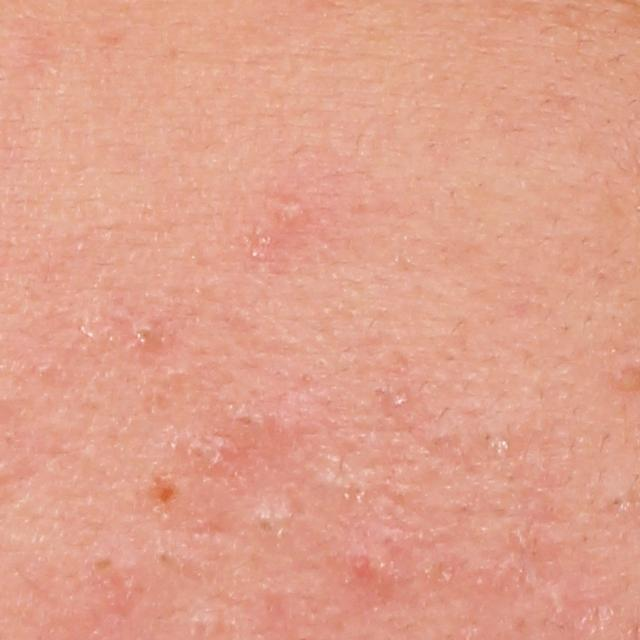comedo: (257, 513, 280, 540), (389, 390, 411, 410)
